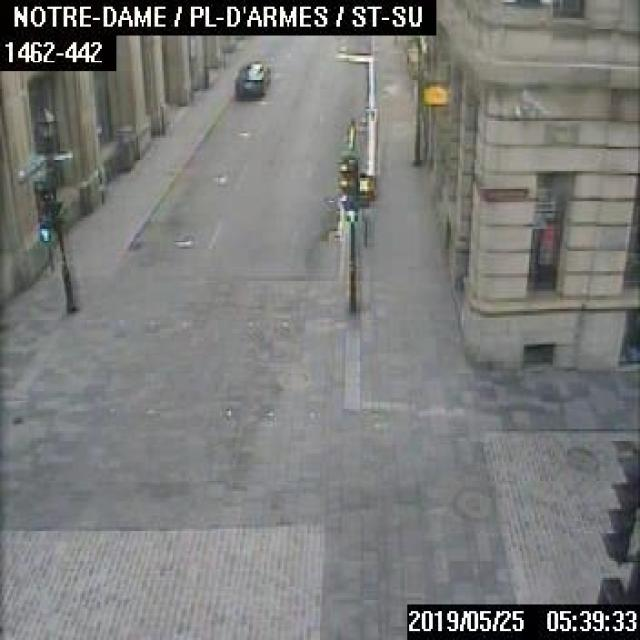vehicle: (233, 58, 269, 98)
